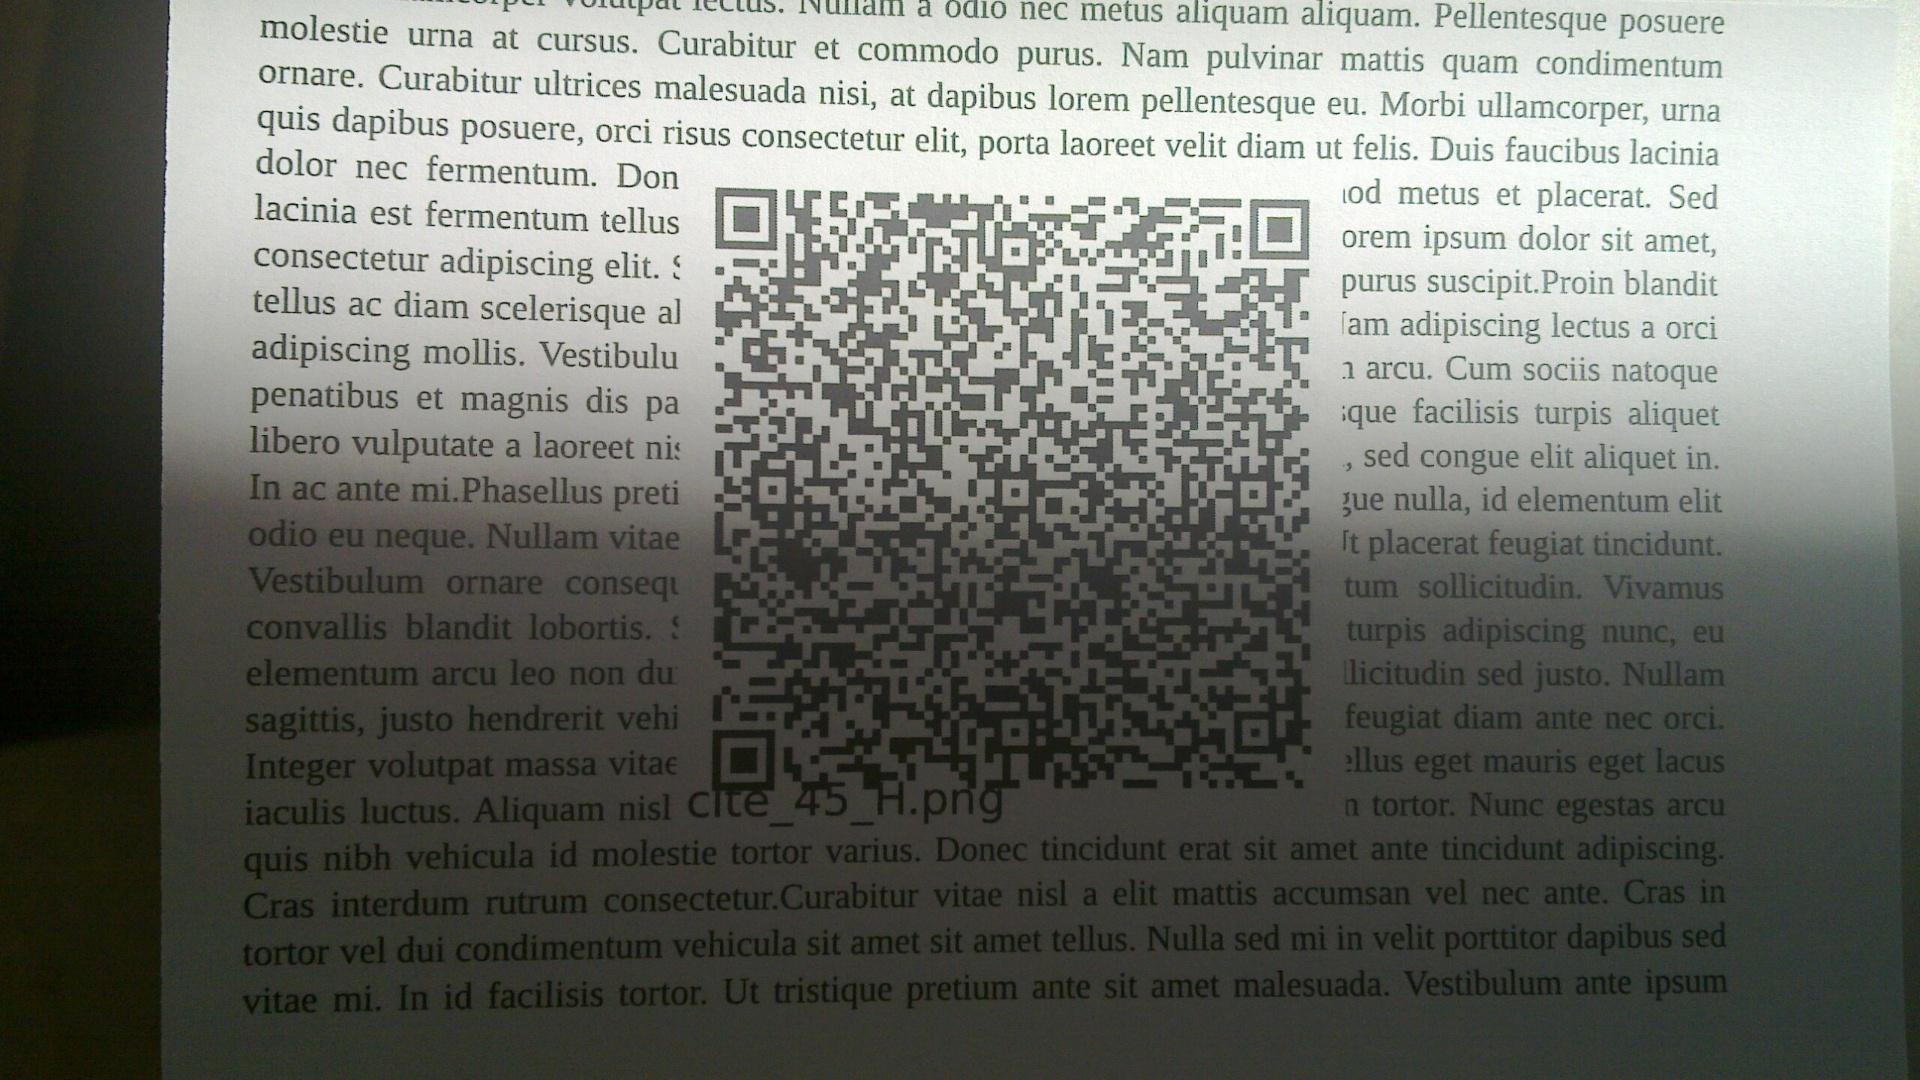qr_code: (712, 186, 1311, 798)
